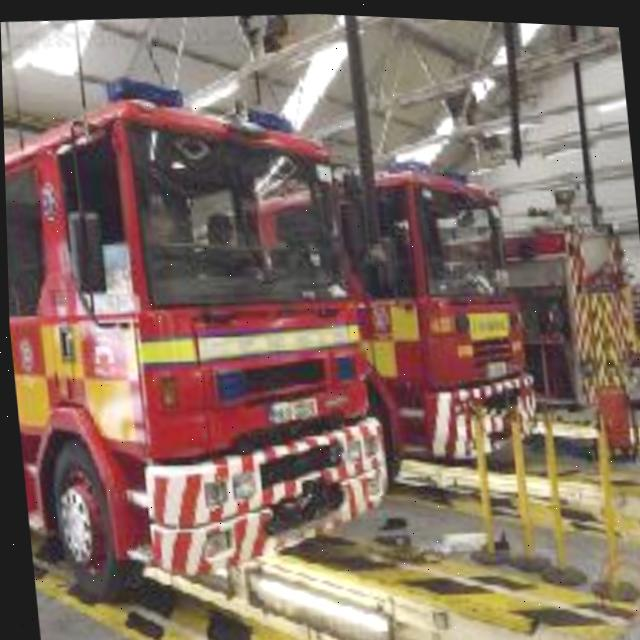emergency: (4, 55, 373, 565), (355, 140, 533, 489)
